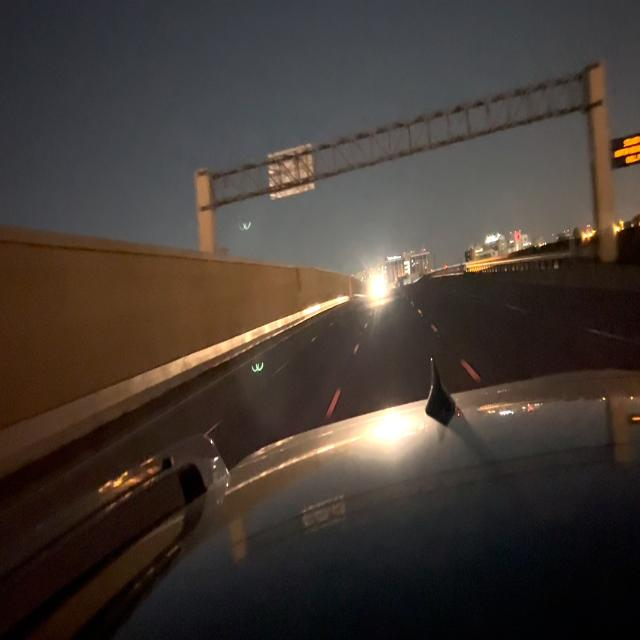back-of-sign: (266, 139, 316, 205)
